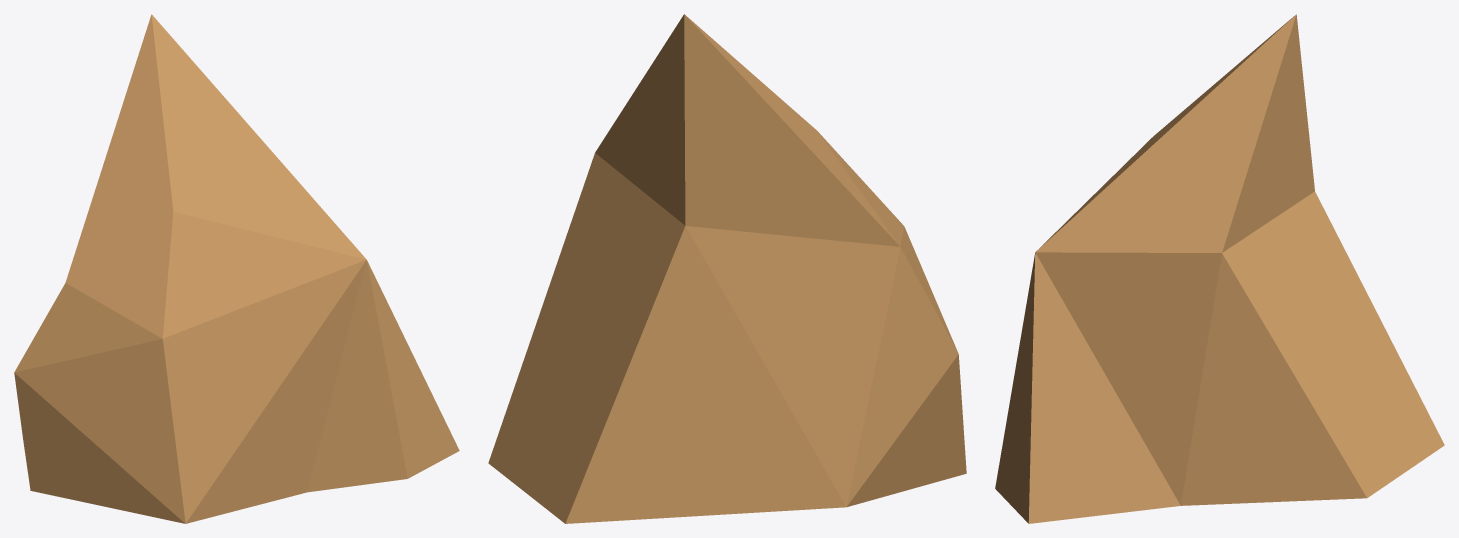
The model's file is decoration_stone_06.glb.
The picture shows the model from 3 angles, left to right: view 1: azimuth 30°, elevation 25°; view 2: azimuth 150°, elevation 25°; view 3: azimuth 270°, elevation 25°; orthographic projection. The views are drawn at different scales.
Visible parts, largest first — view 1: Plane.072; view 2: Plane.072; view 3: Plane.072.
Part boxes in pixels (<box>): Plane.072: <box>14,14,459,523</box>; Plane.072: <box>488,14,966,523</box>; Plane.072: <box>995,14,1444,523</box>.
Bounding box in the file's own units: 13.51 × 13.67 × 13.43.
1 material, 1 textured.
